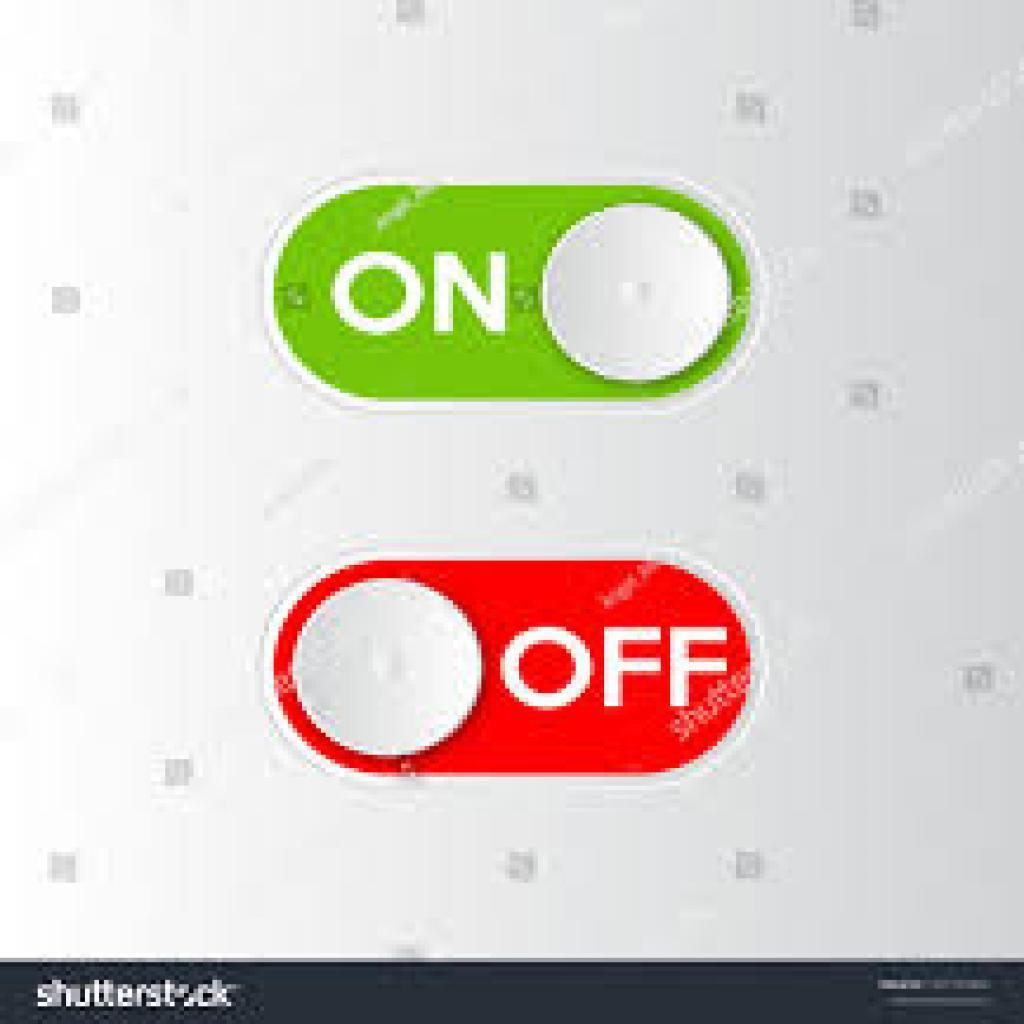switch: (256, 555, 773, 791), (262, 178, 767, 409)
